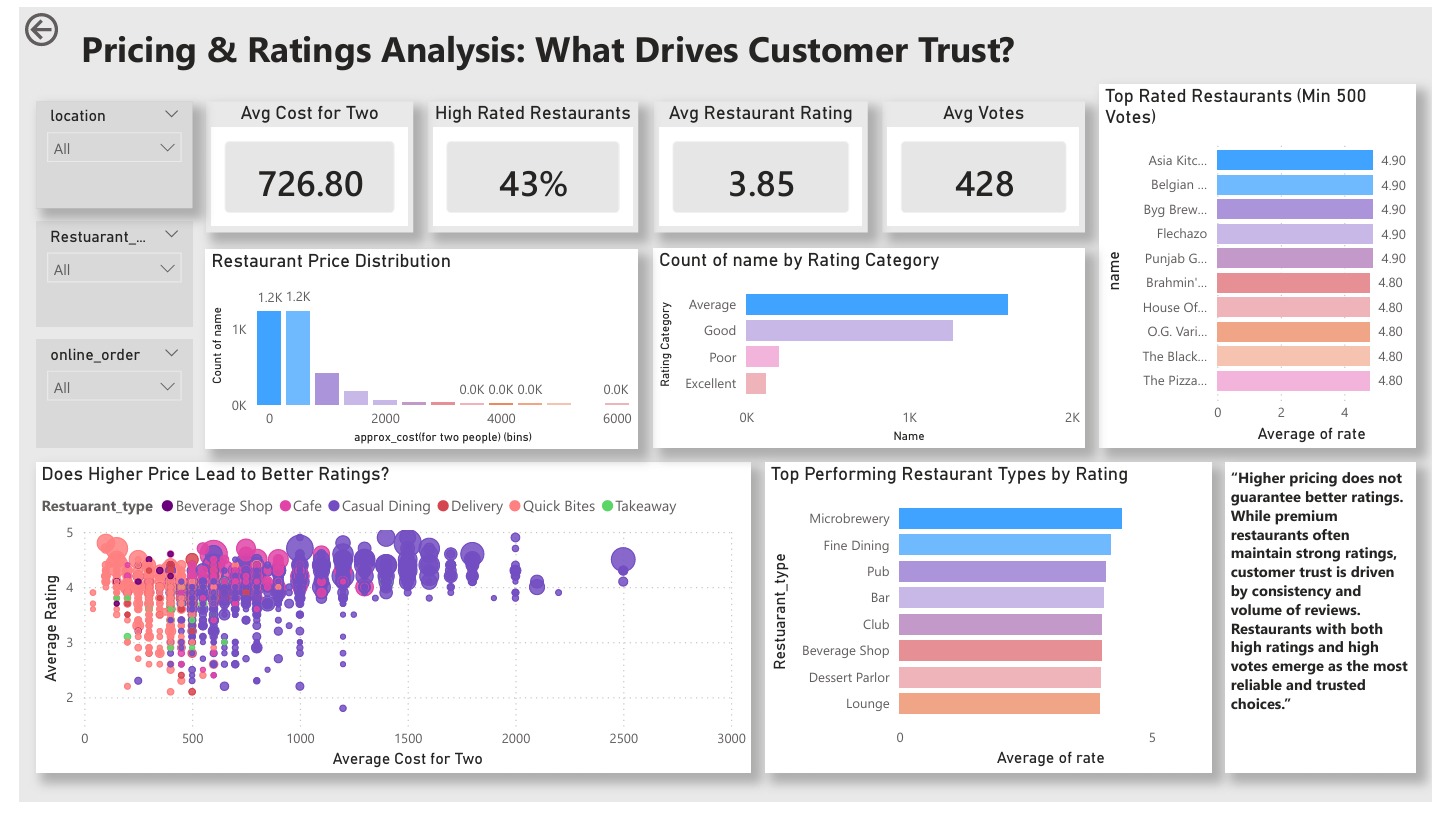

The page's visual inventory and layout, read from the dashboard file:
{"tool":"powerbi","page":{"name":"Pricing, Ratings & Trust Analysis","canvas":[1280,720],"ordinal":4},"visuals":[{"type":"cardVisual","title":"Avg Restaurant Rating","fields":{"Data":["KPI_Measures.Avg Rating"]},"box":[574.6,85.1,194,119.4],"z":0},{"type":"cardVisual","title":"Avg Cost for Two","fields":{"Data":["KPI_Measures.Avg Cost"]},"box":[168.7,85.1,188.1,119.4],"z":1},{"type":"cardVisual","title":"Avg Votes","fields":{"Data":["KPI_Measures.Avg Votes"]},"box":[782.1,85.1,183.6,119.4],"z":2},{"type":"cardVisual","title":"High Rated Restaurants","fields":{"Data":["KPI_Measures.High Rated %"]},"box":[370.1,85.1,191,119.4],"z":3},{"type":"scatterChart","title":"Does Higher Price Lead to Better Ratings?","fields":{"X":["Avg(Zomato_Restaurants_Clean.approx_cost(for two people))"],"Y":["Avg(Zomato_Restaurants_Clean.rate)"],"Size":["Sum(Zomato_Restaurants_Clean.votes)"],"Series":["Zomato_Restaurants_Clean.Restuarant_type"],"Category":["Zomato_Restaurants_Clean.name"]},"box":[14.9,411.9,647.8,280.6],"z":4},{"type":"actionButton","box":[0,0,100,40],"z":5},{"type":"clusteredBarChart","title":"Top Rated Restaurants (Min 500 Votes)","fields":{"Category":["Zomato_Restaurants_Clean.name"],"Y":["Avg(Zomato_Restaurants_Clean.rate)"]},"box":[979.1,70.1,286.6,328.4],"z":6},{"type":"clusteredBarChart","fields":{"Category":["Zomato_Restaurants_Clean.Rating Category"],"Y":["CountNonNull(Zomato_Restaurants_Clean.name)"]},"box":[574.6,217.9,391,180.6],"z":7},{"type":"clusteredColumnChart","title":"Restaurant Price Distribution","fields":{"Category":["Zomato_Restaurants_Clean.approx_cost(for two people) (bins)"],"Y":["CountNonNull(Zomato_Restaurants_Clean.name)"]},"box":[168.7,219.4,392.5,180.6],"z":8},{"type":"clusteredBarChart","title":"Top Performing Restaurant Types by Rating","fields":{"Category":["Zomato_Restaurants_Clean.Restuarant_type"],"Y":["Avg(Zomato_Restaurants_Clean.rate)"]},"box":[676.1,411.9,404.5,280.6],"z":9},{"type":"textbox","box":[50.7,9,958.2,61.2],"z":10},{"type":"textbox","box":[1093.2,411.9,172.9,281.4],"z":11},{"type":"slicer","fields":{"Values":["Zomato_Restaurants_Clean.location"]},"box":[14.9,85.1,141.8,97],"z":12},{"type":"slicer","fields":{"Values":["Zomato_Restaurants_Clean.Restuarant_type"]},"box":[14.9,194,141.8,95.5],"z":13},{"type":"slicer","fields":{"Values":["Zomato_Restaurants_Clean.online_order"]},"box":[14.9,301.5,141.8,97],"z":14}]}

Visuals, with their boxes in screenshot pixels (x1, y1, x2, y2), scaled from the page's 1280x720 canvas onto the 1447x817 screenshot:
"Avg Restaurant Rating" cardVisual: detection(650, 97, 869, 232)
"Avg Cost for Two" cardVisual: detection(191, 97, 403, 232)
"Avg Votes" cardVisual: detection(884, 97, 1092, 232)
"High Rated Restaurants" cardVisual: detection(418, 97, 634, 232)
"Does Higher Price Lead to Better Ratings?" scatterChart: detection(17, 467, 749, 786)
actionButton: detection(0, 0, 113, 45)
"Top Rated Restaurants (Min 500 Votes)" clusteredBarChart: detection(1107, 80, 1431, 452)
clusteredBarChart - Zomato_Restaurants_Clean.Rating Category x CountNonNull(Zomato_Restaurants_Clean.name): detection(650, 247, 1092, 452)
"Restaurant Price Distribution" clusteredColumnChart: detection(191, 249, 634, 454)
"Top Performing Restaurant Types by Rating" clusteredBarChart: detection(764, 467, 1222, 786)
textbox: detection(57, 10, 1141, 80)
textbox: detection(1236, 467, 1431, 787)
slicer - Zomato_Restaurants_Clean.location: detection(17, 97, 177, 207)
slicer - Zomato_Restaurants_Clean.Restuarant_type: detection(17, 220, 177, 329)
slicer - Zomato_Restaurants_Clean.online_order: detection(17, 342, 177, 452)
